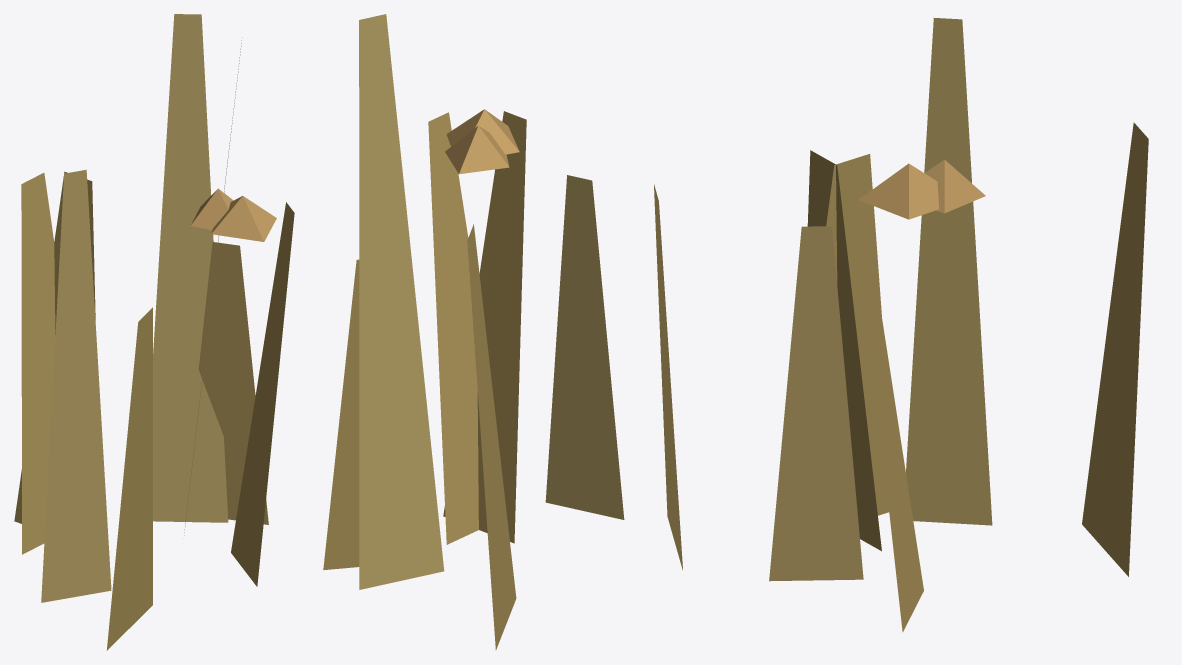
File: crop.temp.rice__autumn.glb
The picture shows the model from 3 angles, left to right: view 1: azimuth 30°, elevation 25°; view 2: azimuth 150°, elevation 25°; view 3: azimuth 270°, elevation 25°; orthographic projection. The views are drawn at different scales.
Parts seen in each view (by area): view 1: crop.temp.rice__autumn; view 2: crop.temp.rice__autumn; view 3: crop.temp.rice__autumn.
Part boxes in pixels (bbox=[...]): crop.temp.rice__autumn: bbox=[14, 14, 294, 650]; crop.temp.rice__autumn: bbox=[323, 14, 682, 649]; crop.temp.rice__autumn: bbox=[769, 18, 1148, 632].
Bounding box in the file's own units: 0.4922 × 0.8973 × 0.5649.
